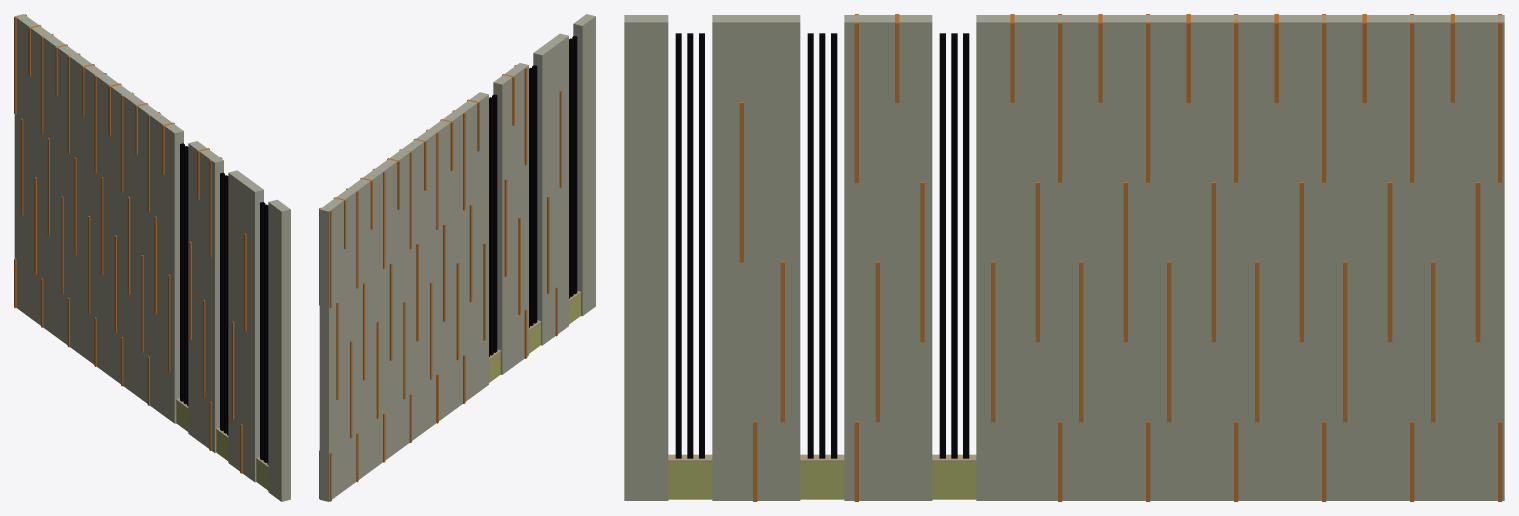
File: W_O_WallFance_002_L1.fbx
3 renders of one model, left to right at view 1: azimuth 30°, elevation 25°; view 2: azimuth 150°, elevation 25°; view 3: azimuth 270°, elevation 25°, orthographic. The views are drawn at different scales.
Parts seen in each view (by area): view 1: W_O_WallFance_002_L1; view 2: W_O_WallFance_002_L1; view 3: W_O_WallFance_002_L1.
Boxes of the visible parts, x1,y1,x2,y2 form: W_O_WallFance_002_L1: (14, 14, 290, 501); W_O_WallFance_002_L1: (319, 14, 595, 501); W_O_WallFance_002_L1: (624, 14, 1504, 501).
Size of the model in its own units: 0.25 by 6 by 10.
